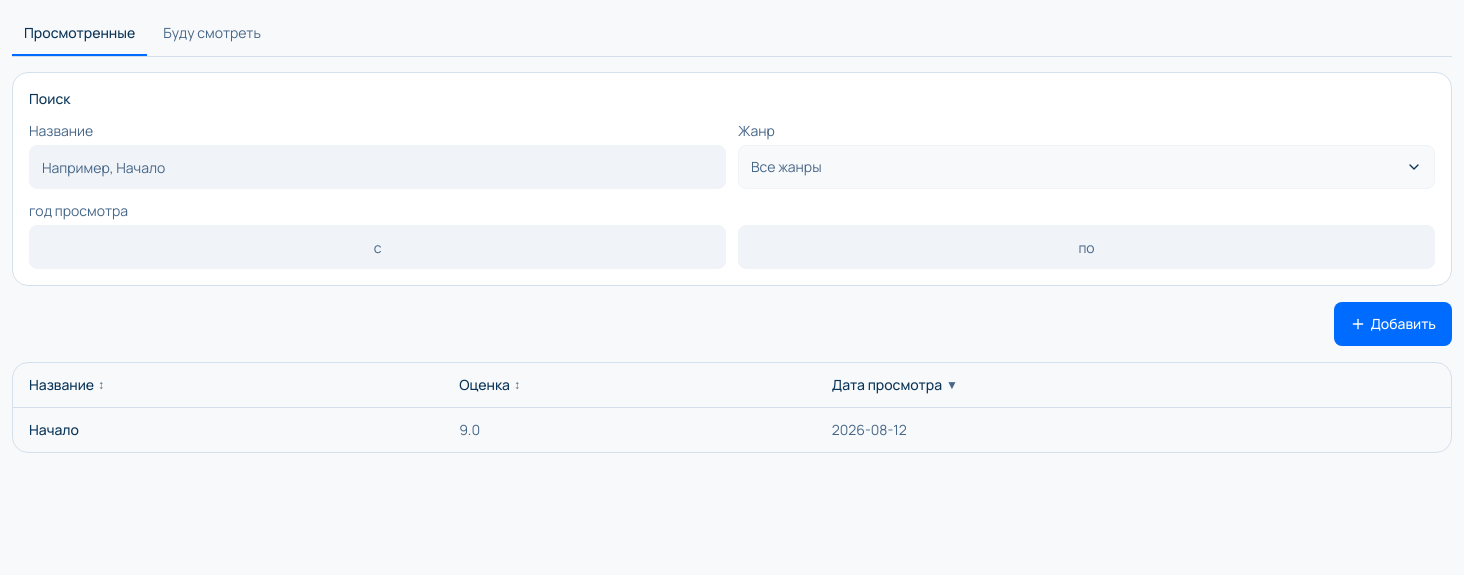
Test: RecordsTable expanded content › wraps a long comment and lets actions wrap below it
Click the button "Начало": [54, 430] box [29, 420, 79, 440]
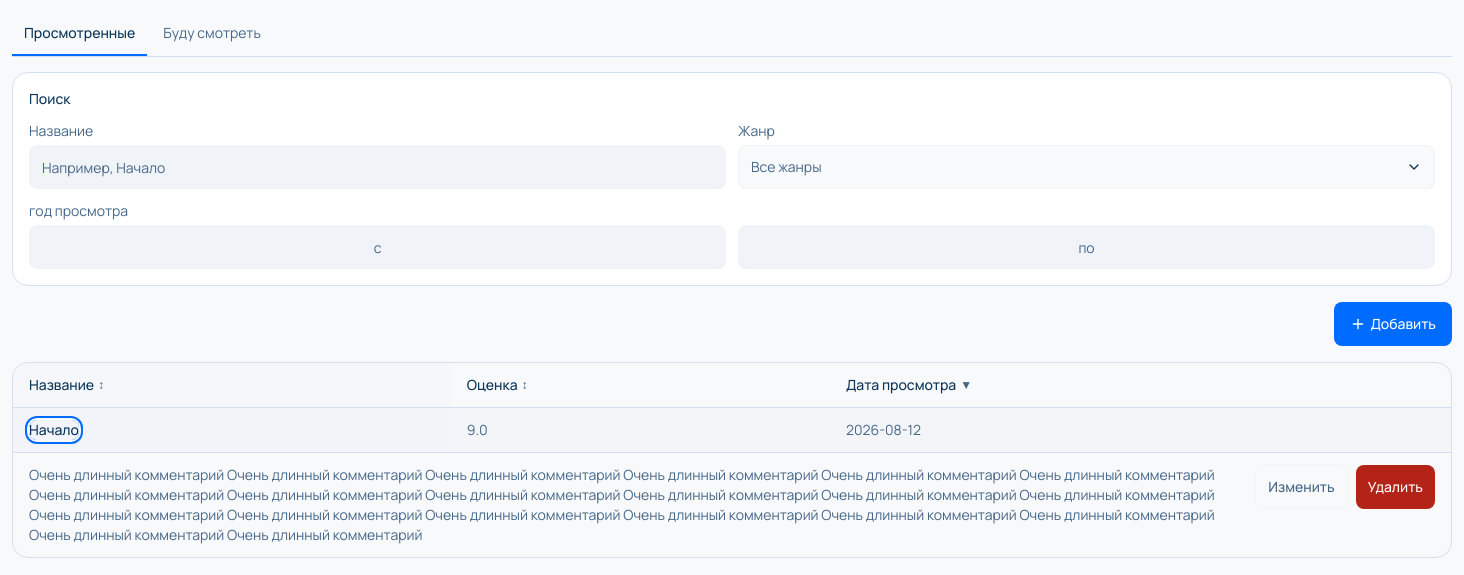
Now the button "Изменить" is shown, box [1255, 465, 1348, 509]
Now the button "Удалить" is shown, box [1356, 465, 1435, 509]
